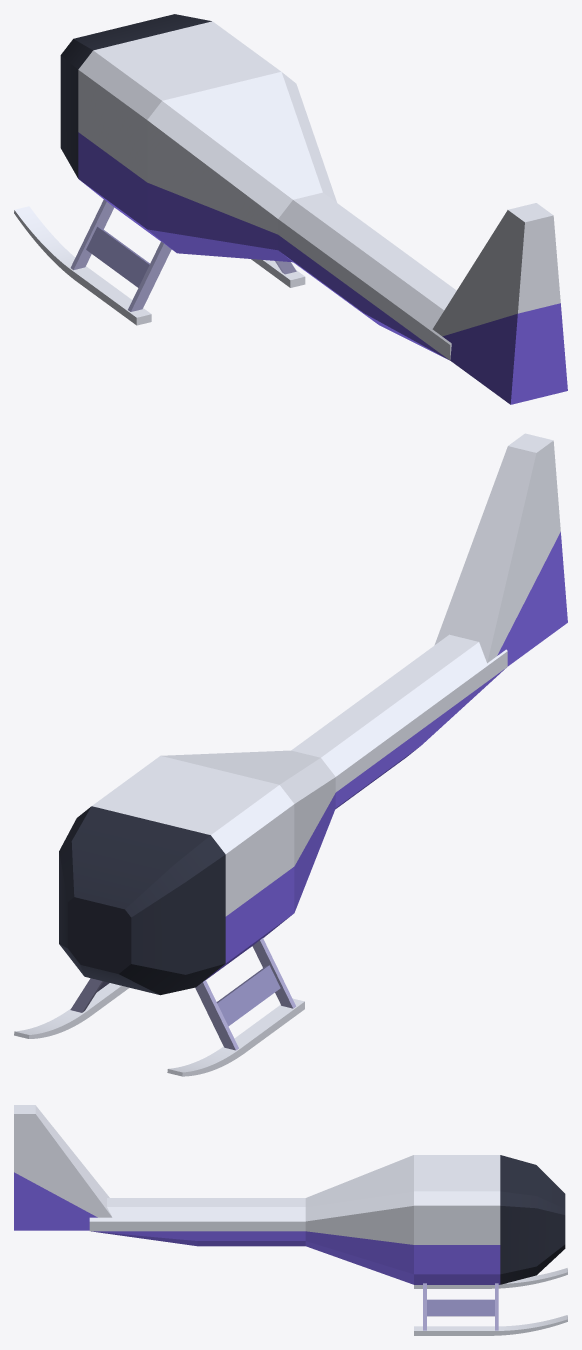
Rendered from helicopter_body.glb.
3 views of the same model, one above another, from view 1: azimuth 30°, elevation 25°; view 2: azimuth 150°, elevation 25°; view 3: azimuth 270°, elevation 25° (orthographic). The views are drawn at different scales.
Parts seen in each view (by area): view 1: mergedBlocks(Clone); view 2: mergedBlocks(Clone); view 3: mergedBlocks(Clone).
Part boxes in pixels (<box>): mergedBlocks(Clone): <box>14,14,567,404</box>; mergedBlocks(Clone): <box>14,433,567,1076</box>; mergedBlocks(Clone): <box>14,1105,567,1335</box>.
Size of the model in its own units: 1.7 by 3.07 by 7.69.
